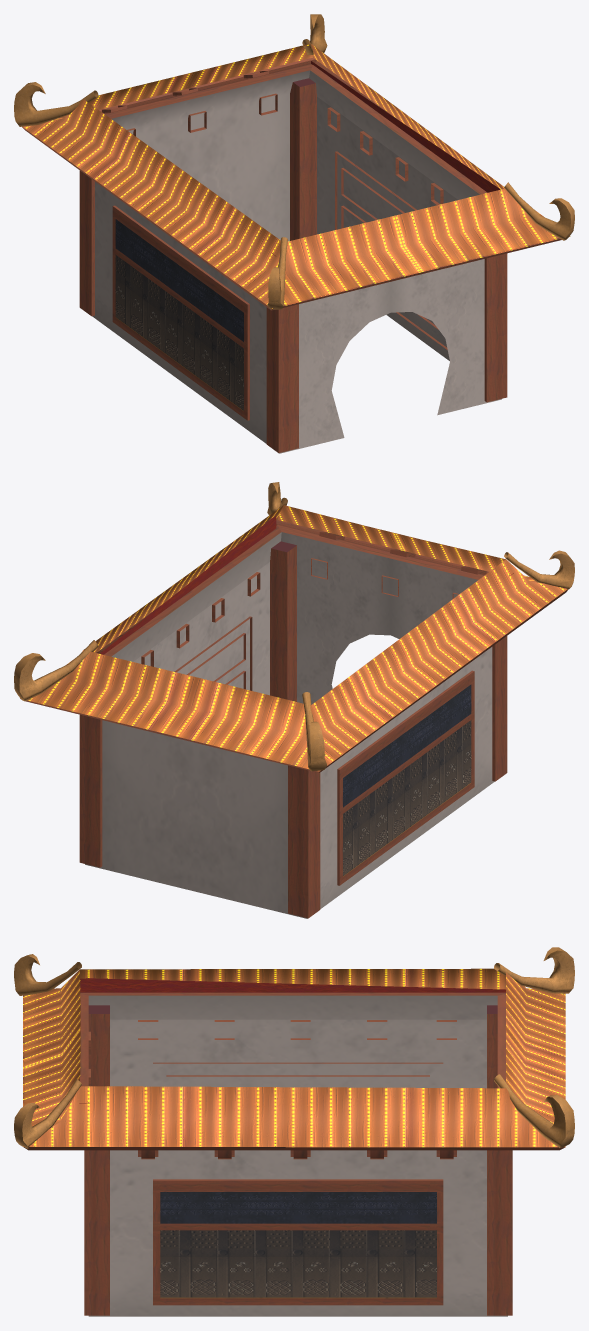
Rendered from Floor01_Art.fbx.
3 renders of one model, top to bottom at view 1: azimuth 30°, elevation 25°; view 2: azimuth 150°, elevation 25°; view 3: azimuth 270°, elevation 25°, orthographic. The views are drawn at different scales.
Visible parts, largest first — view 1: Floor01_Art; view 2: Floor01_Art; view 3: Floor01_Art.
Boxes of the visible parts, x1=… form: Floor01_Art: x1=14, y1=14, x2=574, y2=453; Floor01_Art: x1=14, y1=482, x2=574, y2=918; Floor01_Art: x1=14, y1=947, x2=574, y2=1316.
Bounding box in the file's own units: 15.69 × 10.71 × 22.71.
